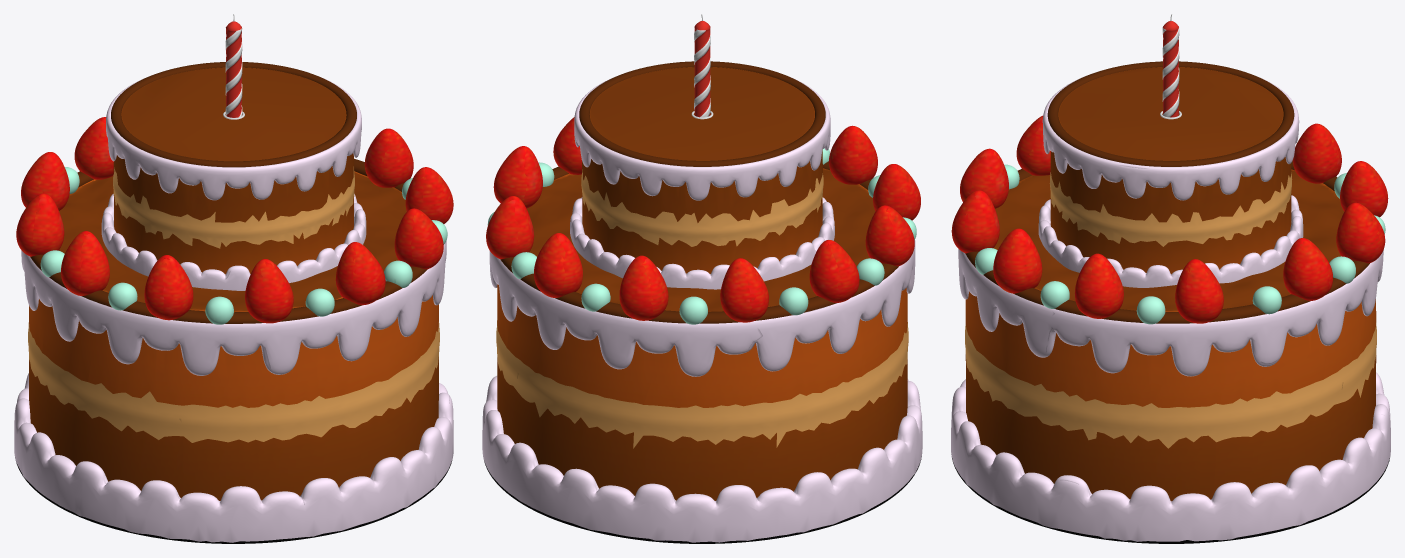
File: cake.gltf
3 renders of one model, left to right at view 1: azimuth 30°, elevation 25°; view 2: azimuth 150°, elevation 25°; view 3: azimuth 270°, elevation 25°, orthographic.
Visible parts, largest first — view 1: Cake Body, Kaars.001; view 2: Cake Body, Kaars.001; view 3: Cake Body, Kaars.001.
Boxes of the visible parts, x1=… form: Cake Body: x1=14, y1=62, x2=453, y2=543; Kaars.001: x1=223, y1=14, x2=244, y2=119; Cake Body: x1=482, y1=61, x2=922, y2=543; Kaars.001: x1=691, y1=14, x2=713, y2=119; Cake Body: x1=951, y1=61, x2=1390, y2=543; Kaars.001: x1=1160, y1=14, x2=1181, y2=119.
Bounding box in the file's own units: 2.13 × 2.34 × 2.13.
Materials: 4 (1 with a texture image).
